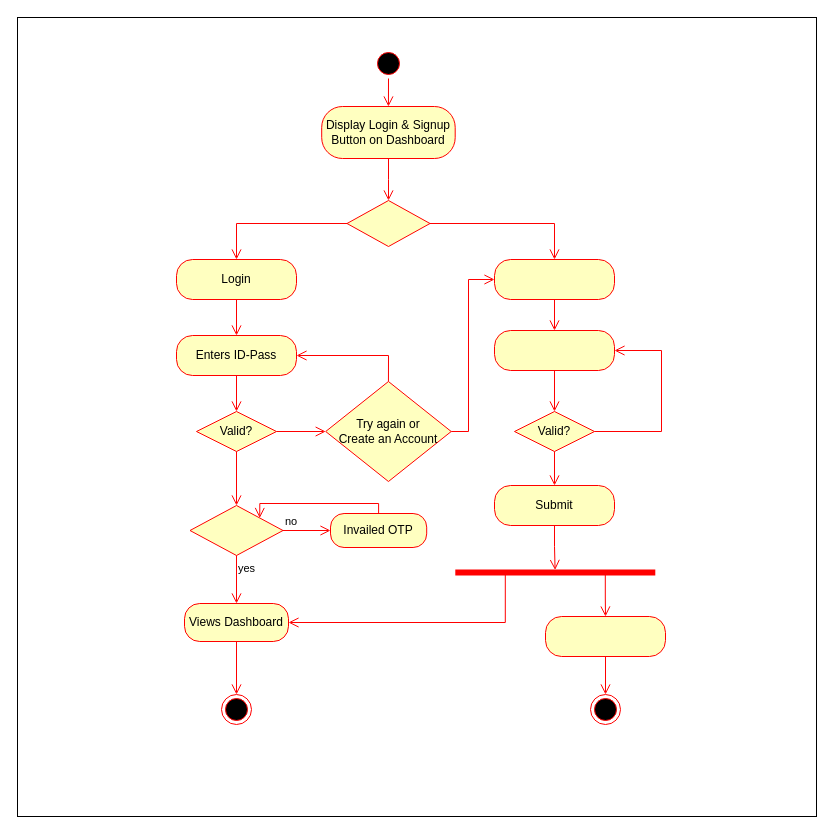
Image size: 834x834. Some labels were removed from this diagram. Each missing label, with the box of its shape:
Choice: (346, 200, 430, 246)
Enters Details: (494, 330, 614, 370)
New User is Added: (544, 616, 666, 656)
OTP Verifed?: (189, 504, 283, 556)
Signup: (494, 258, 614, 300)
